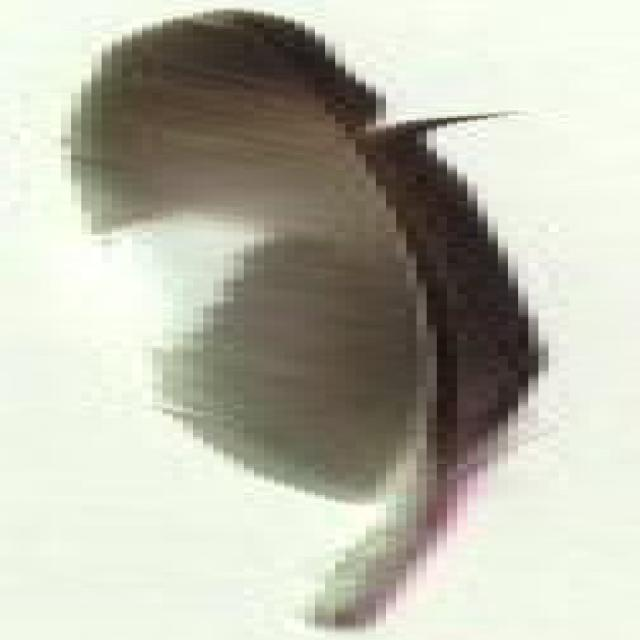feather: (86, 6, 563, 631)
